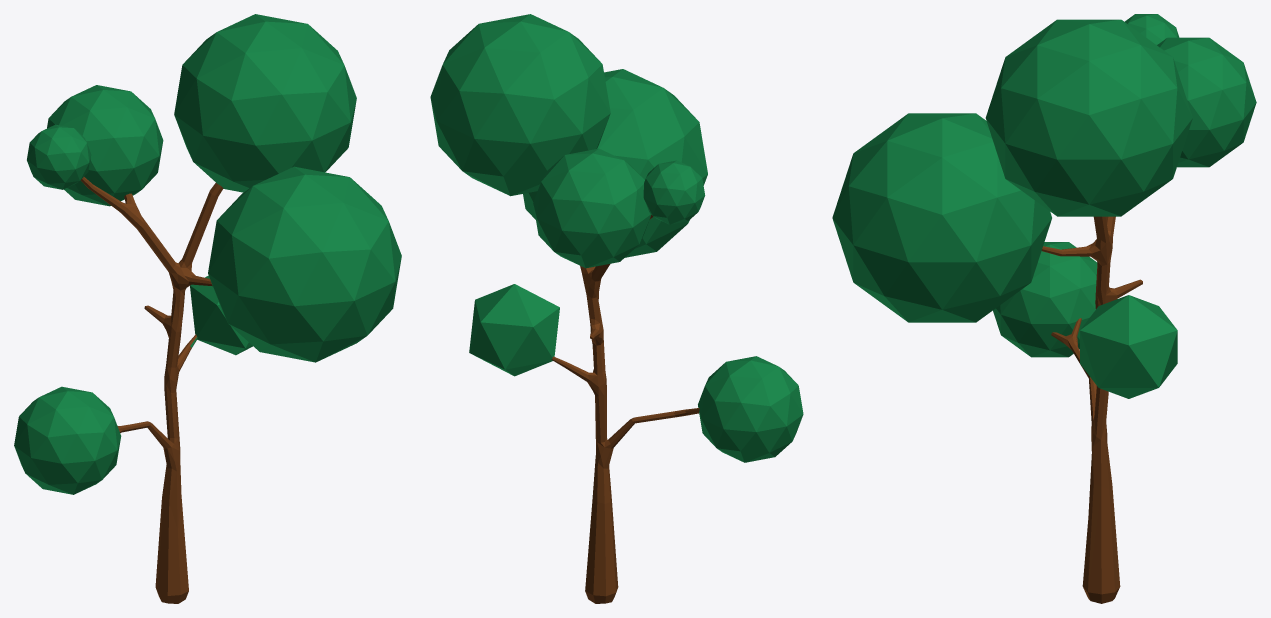
The model's file is beautifulTreeFBX.fbx.
3 views of the same model, side by side, from view 1: azimuth 30°, elevation 25°; view 2: azimuth 150°, elevation 25°; view 3: azimuth 270°, elevation 25° (orthographic). The views are drawn at different scales.
Parts seen in each view (by area): view 1: Cube; view 2: Cube; view 3: Cube.
Part boxes in pixels (x1,y1,x2,y2): Cube: [14, 14, 401, 603]; Cube: [430, 14, 803, 603]; Cube: [832, 14, 1256, 603].
Bounding box in the file's own units: 213 × 339 × 209.
